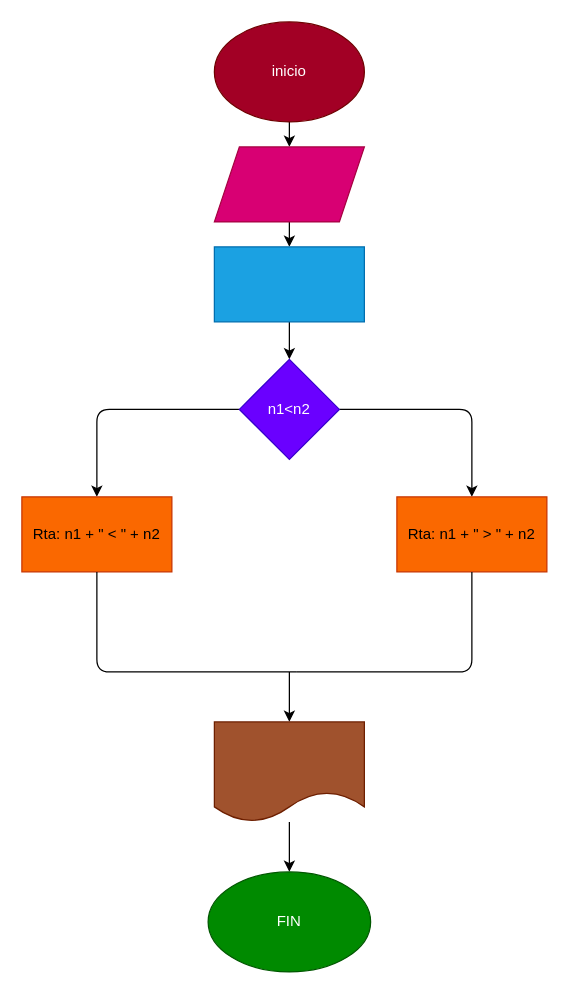
The diagram is 569 pixels wide and 994 high, and some of its shapes have lost their labels. The centre of each missing label's shape, as x and y in pixels:
n1 n2: (x=288, y=184)
valor: n1<n2: (x=288, y=284)
x "<" ó ">" x: (x=288, y=771)
